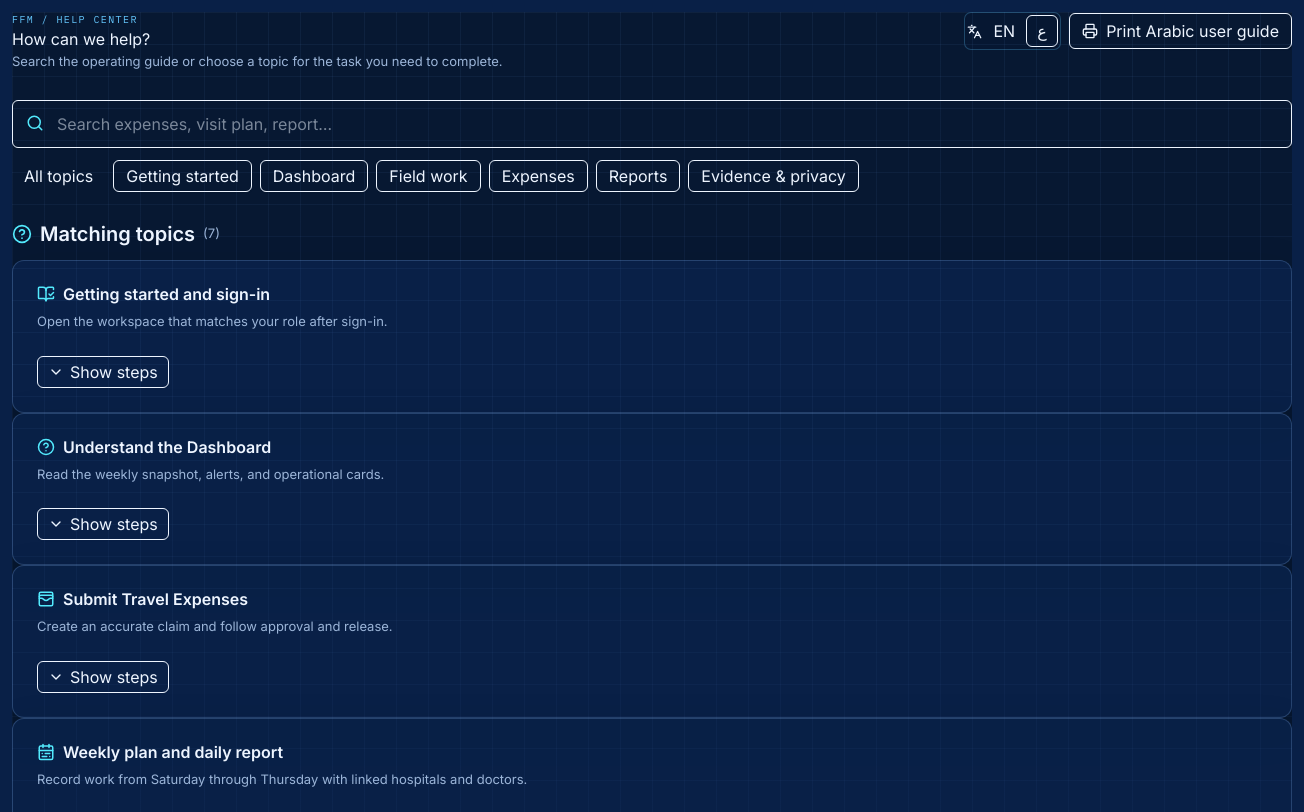
it: Arabic printable Help guide › switches the Help guide to Arabic and opens the browser print dialog
Click the button "Print Arabic user guide": (1181,31) [1069,13,1292,49]
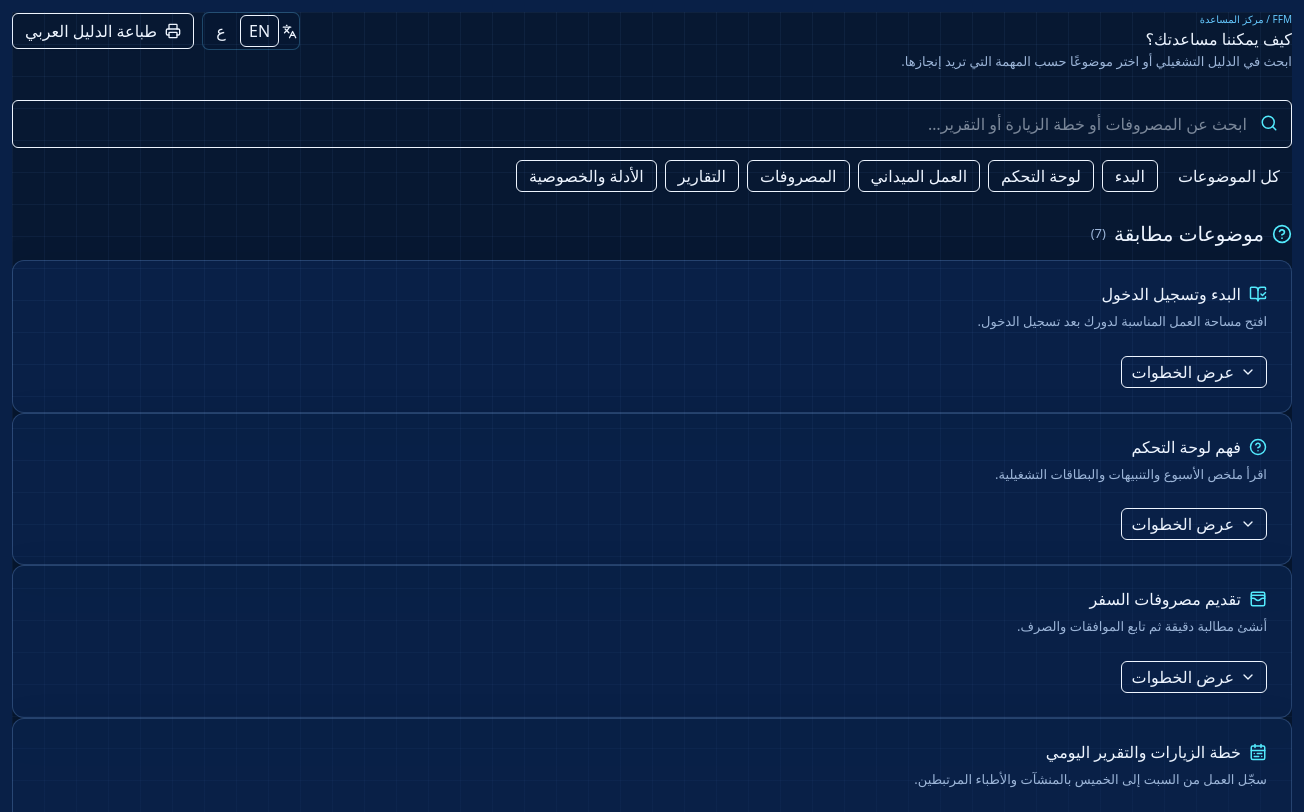
Now the heading "كيف يمكننا مساعدتك؟" is shown, box [1146,28,1292,50]
